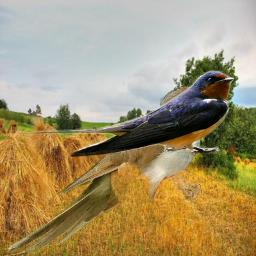Cuckoo: (6, 82, 222, 255)
Swallow: (29, 69, 234, 157)
